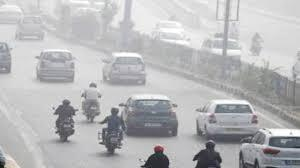helmet: (205, 140, 216, 151), (153, 145, 165, 154), (110, 106, 119, 117), (62, 99, 71, 107), (89, 81, 97, 89)
